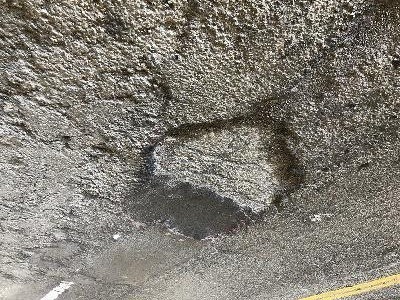pothole: (120, 95, 307, 244)
